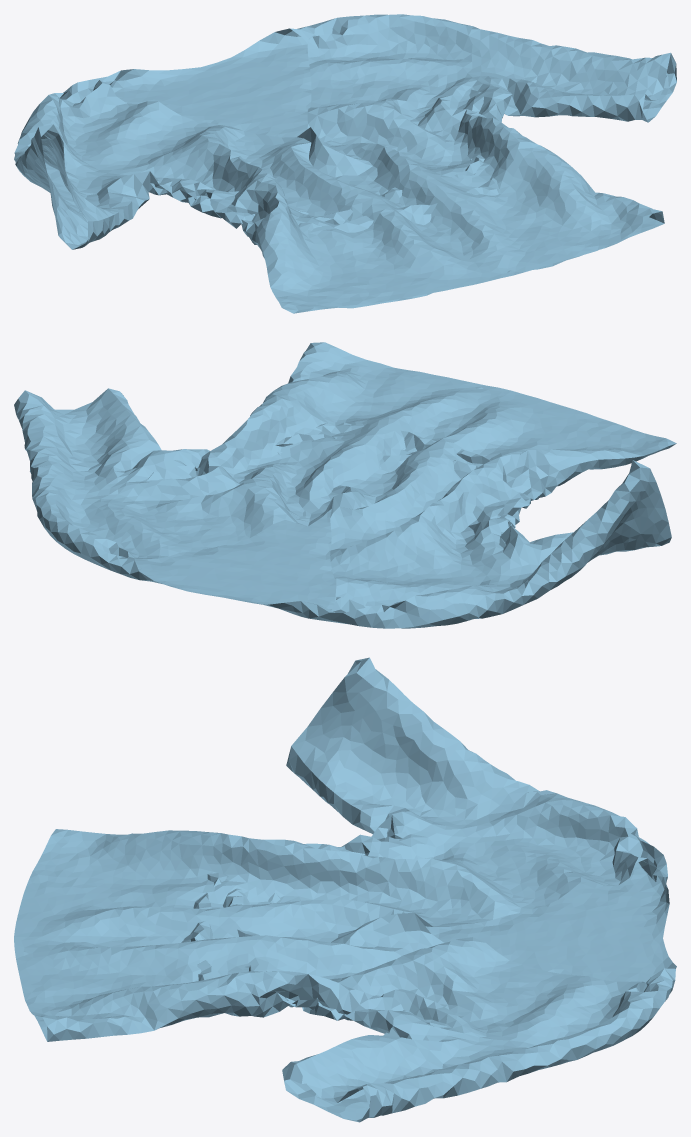
Rendered from frame_05.glb.
The picture shows the model from 3 angles, top to bottom: view 1: azimuth 30°, elevation 25°; view 2: azimuth 150°, elevation 25°; view 3: azimuth 270°, elevation 25°; orthographic projection. The views are drawn at different scales.
Parts seen in each view (by area): view 1: frame_05.obj; view 2: frame_05.obj; view 3: frame_05.obj.
Boxes of the visible parts, left/top/right/bottom form: frame_05.obj: left=14, top=14, right=676, bottom=313; frame_05.obj: left=14, top=342, right=676, bottom=628; frame_05.obj: left=14, top=657, right=676, bottom=1122.
Size of the model in its own units: 1.86 by 0.3213 by 1.48.
